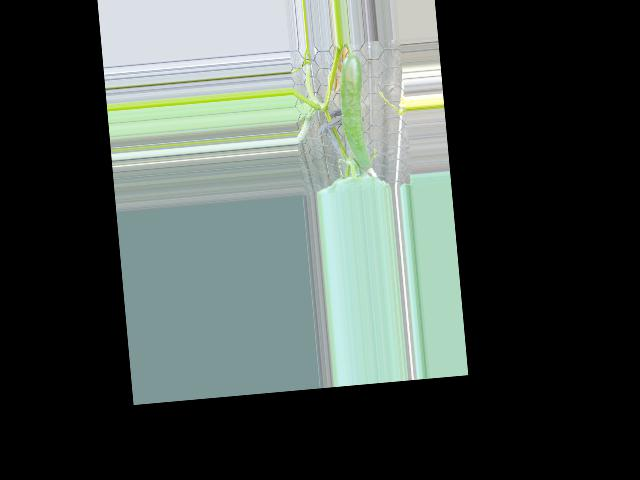cucumber: (335, 54, 371, 170)
